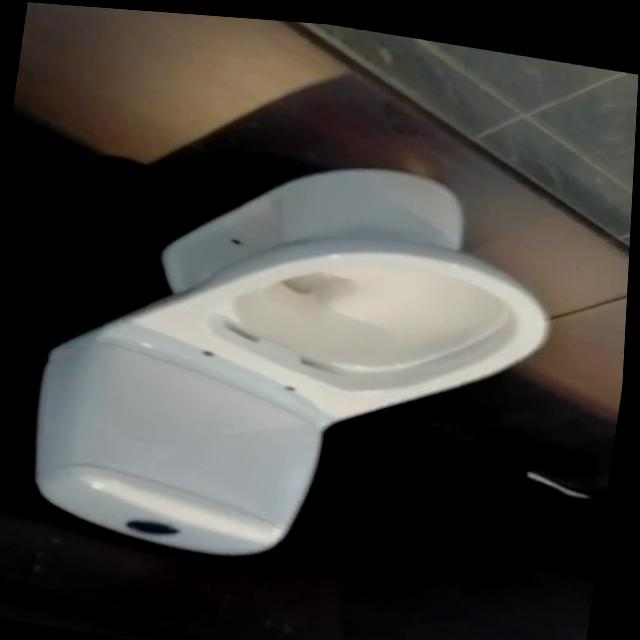toilet: (23, 114, 573, 599)
